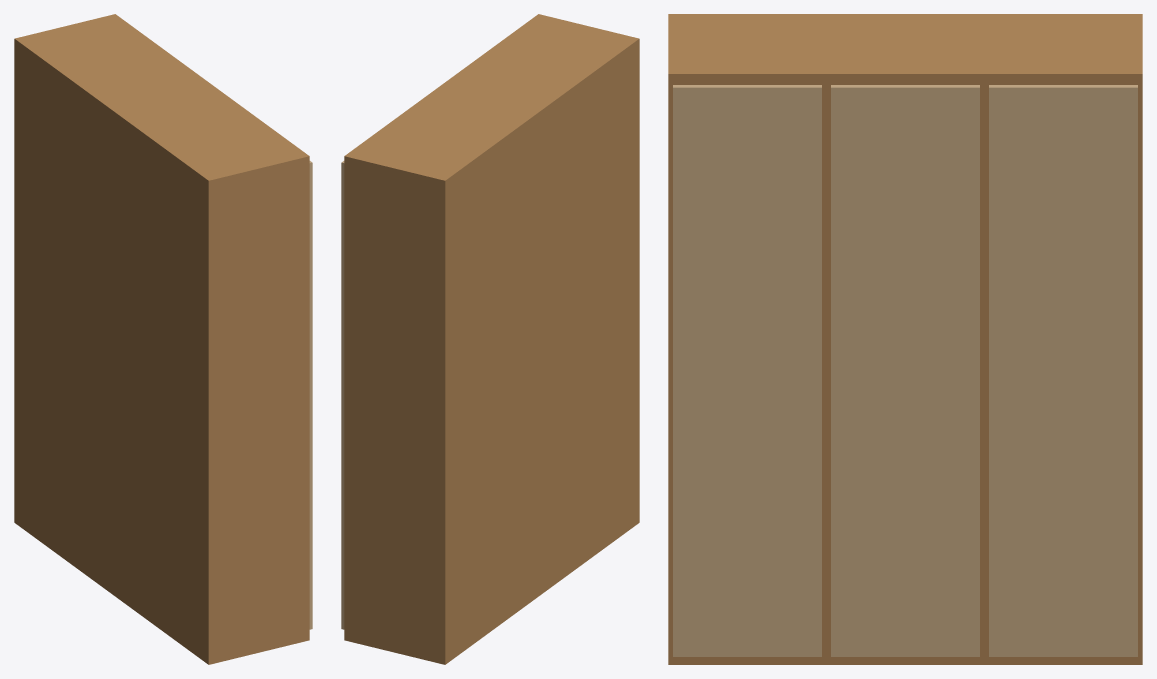
3 renders of one model, left to right at view 1: azimuth 30°, elevation 25°; view 2: azimuth 150°, elevation 25°; view 3: azimuth 270°, elevation 25°, orthographic. The views are drawn at different scales.
Parts seen in each view (by area): view 1: closet_dorm3; view 2: closet_dorm3; view 3: closet_dorm3.
Part boxes in pixels (x1,y1,x2,y2): closet_dorm3: [14, 14, 312, 664]; closet_dorm3: [341, 14, 639, 664]; closet_dorm3: [668, 14, 1142, 664].
Size of the model in its own units: 0.502 by 1.6 by 2.2.
